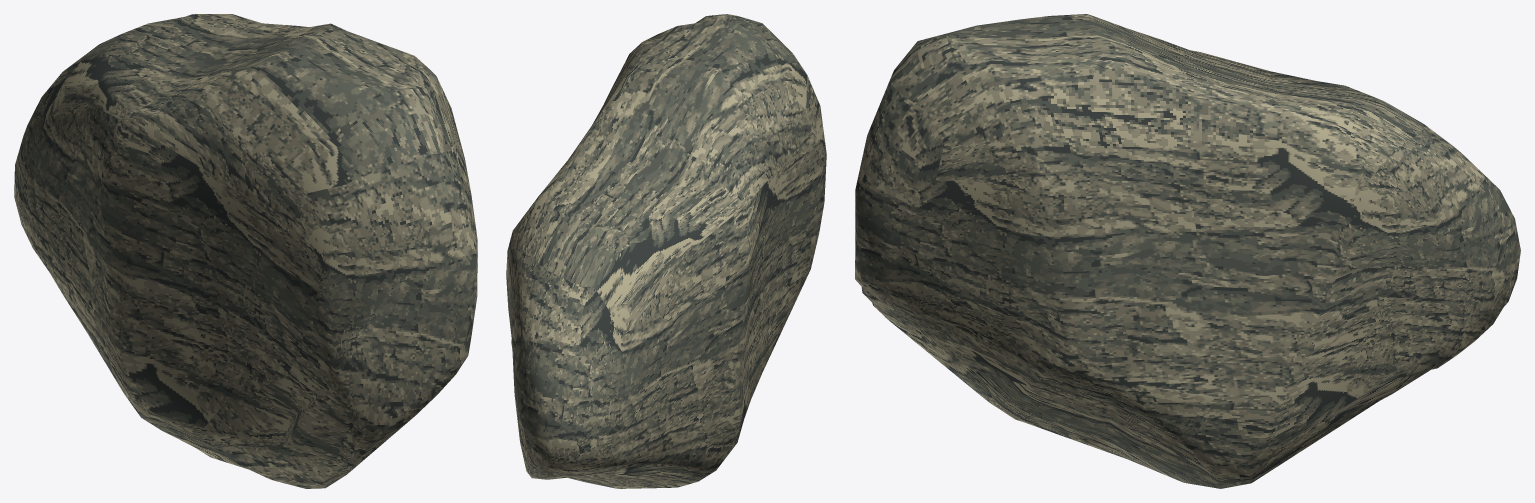
File: rockHuge01.fbx
The picture shows the model from 3 angles, left to right: view 1: azimuth 30°, elevation 25°; view 2: azimuth 150°, elevation 25°; view 3: azimuth 270°, elevation 25°; orthographic projection. The views are drawn at different scales.
Parts seen in each view (by area): view 1: RockHuge01; view 2: RockHuge01; view 3: RockHuge01.
Boxes of the visible parts, x1=… form: RockHuge01: x1=14, y1=14, x2=477, y2=488; RockHuge01: x1=506, y1=14, x2=826, y2=488; RockHuge01: x1=855, y1=14, x2=1520, y2=488.
Bounding box in the file's own units: 139 × 234 × 318.
